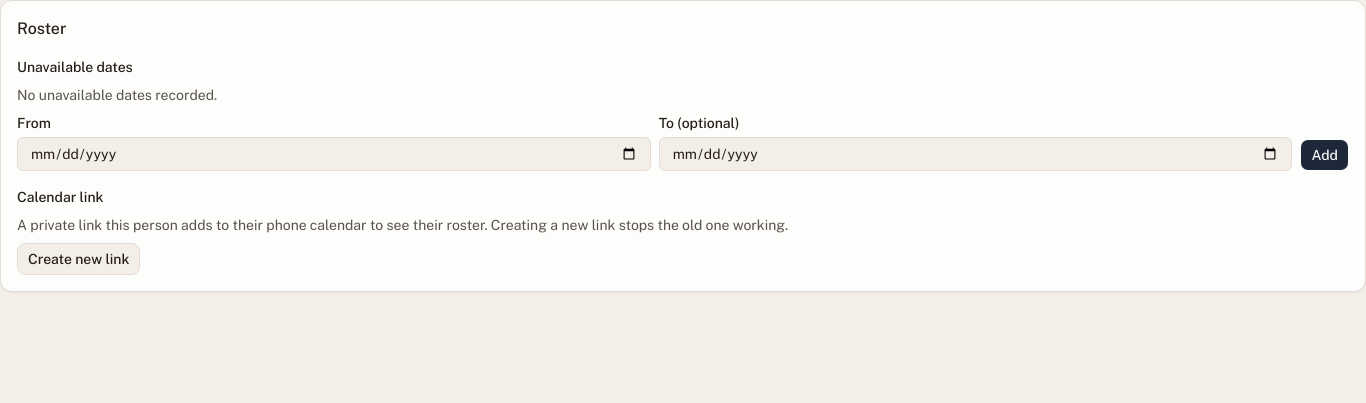
Test case: PersonRosterCard › keeps a new calendar link when a date save rejects
Step 1. Click the button "Create new link" → (79, 259), box left=17, top=243, right=140, bottom=275
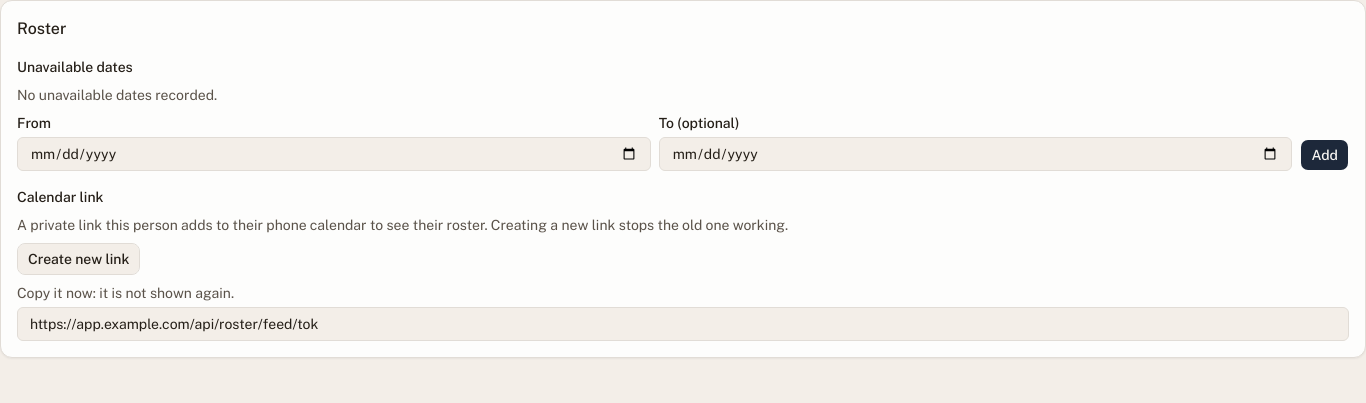
Result: the field showing "https://app.example.com/api/roster/feed/tok" is shown at left=17, top=307, right=1349, bottom=341
Step 2. Type "2026-12-20" into the date field labelled "From" → (334, 154), box left=17, top=137, right=651, bottom=171
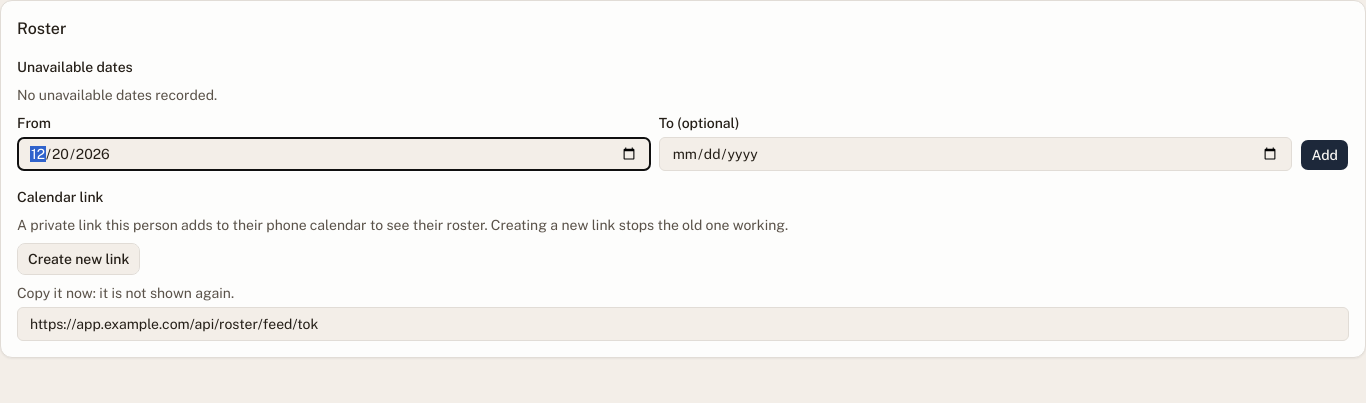
Step 3. Click the button "Add" → (1325, 155), box left=1300, top=139, right=1349, bottom=171
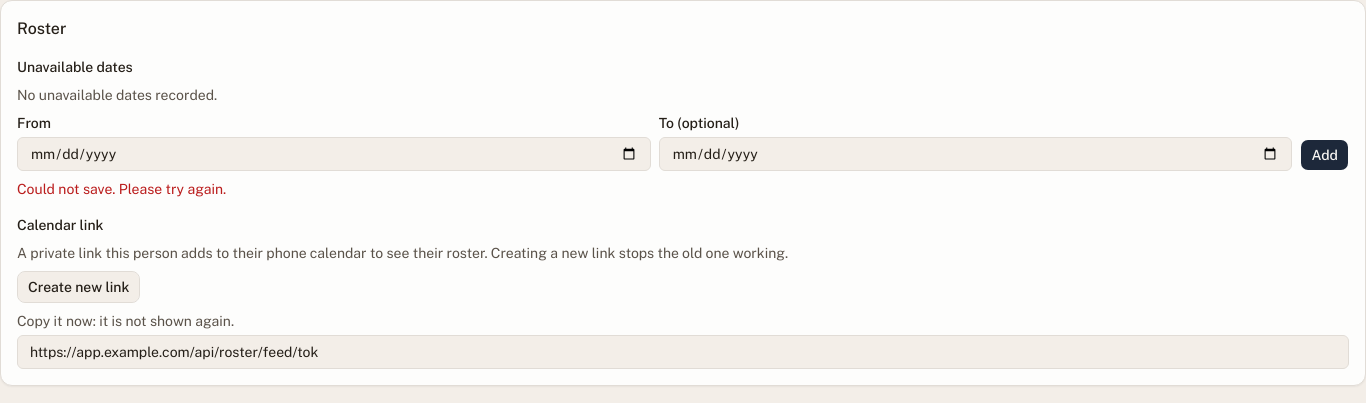
Result: the field showing "https://app.example.com/api/roster/feed/tok" is shown at left=17, top=335, right=1349, bottom=369
Result: the text "Could not save. Please try again." is shown at left=17, top=181, right=226, bottom=197
